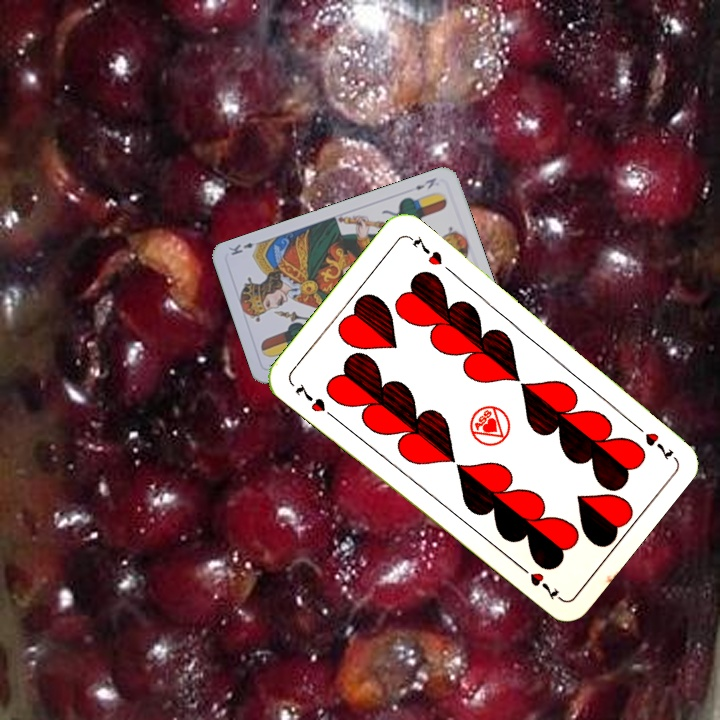EK: (411, 173, 439, 192)
H7: (628, 418, 676, 460), (291, 379, 338, 421)
